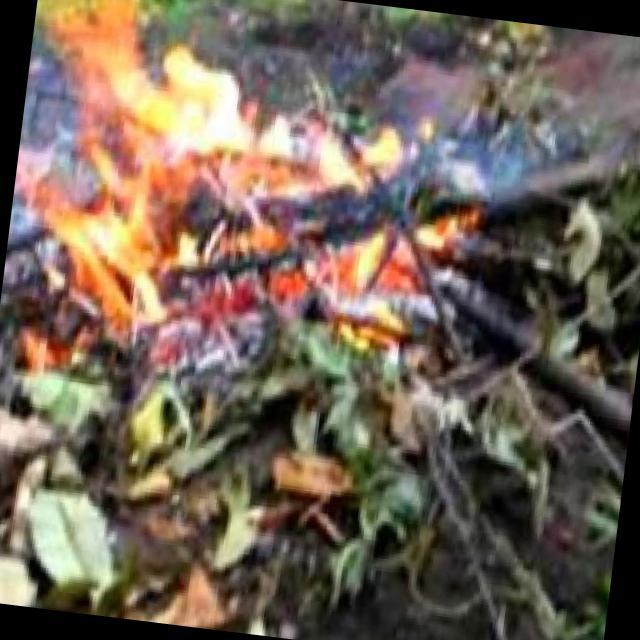Fire: (1, 1, 488, 353)
